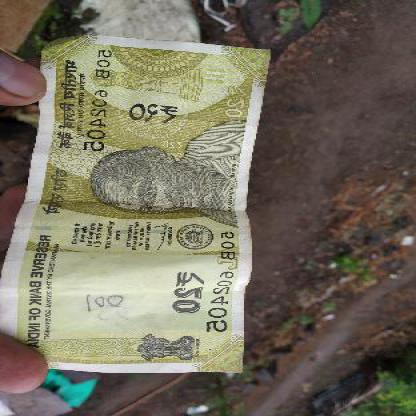New20Front: (5, 40, 264, 372)
